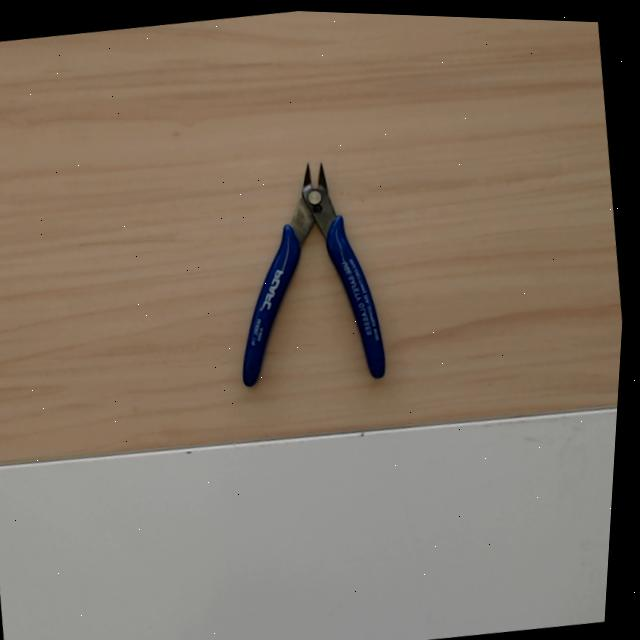Tang-Potong-Biru: (229, 159, 387, 387)
